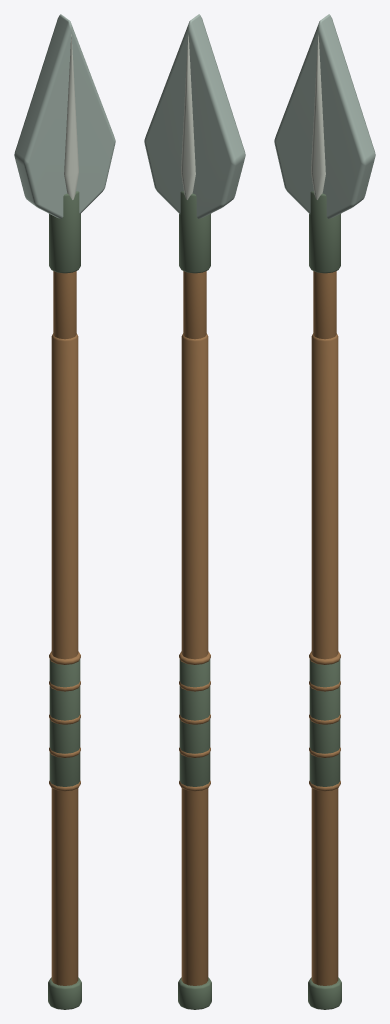
The model's file is authored_spear_v1.glb.
3 views of the same model, side by side, from view 1: azimuth 30°, elevation 25°; view 2: azimuth 150°, elevation 25°; view 3: azimuth 330°, elevation 25° (orthographic).
Parts seen in each view (by area): view 1: Tapered wood handle, Leaf spearhead, Grip leather, Spear socket, Upper haft, Center ridge, Handle cap; view 2: Tapered wood handle, Leaf spearhead, Grip leather, Spear socket, Upper haft, Center ridge, Handle cap; view 3: Tapered wood handle, Leaf spearhead, Grip leather, Spear socket, Upper haft, Center ridge, Handle cap.
Boxes of the visible parts, x1,y1,x2,y2 form: Tapered wood handle: (51, 333, 78, 985); Leaf spearhead: (14, 14, 115, 218); Grip leather: (49, 659, 80, 786); Spear socket: (49, 191, 80, 273); Upper haft: (53, 271, 76, 339); Center ridge: (64, 34, 78, 199); Handle cap: (48, 977, 81, 1009); Tapered wood handle: (181, 333, 208, 985); Leaf spearhead: (144, 14, 245, 218); Grip leather: (179, 659, 210, 786); Spear socket: (179, 191, 210, 273); Upper haft: (183, 271, 206, 339); Center ridge: (181, 34, 195, 199); Handle cap: (178, 977, 211, 1009); Tapered wood handle: (311, 333, 338, 985); Leaf spearhead: (274, 14, 375, 218); Grip leather: (309, 659, 340, 786); Spear socket: (309, 191, 340, 273); Upper haft: (313, 271, 336, 339); Center ridge: (311, 34, 325, 199); Handle cap: (308, 977, 341, 1009).
Bounding box in the file's own units: 0.1439 × 1.48 × 0.046.
